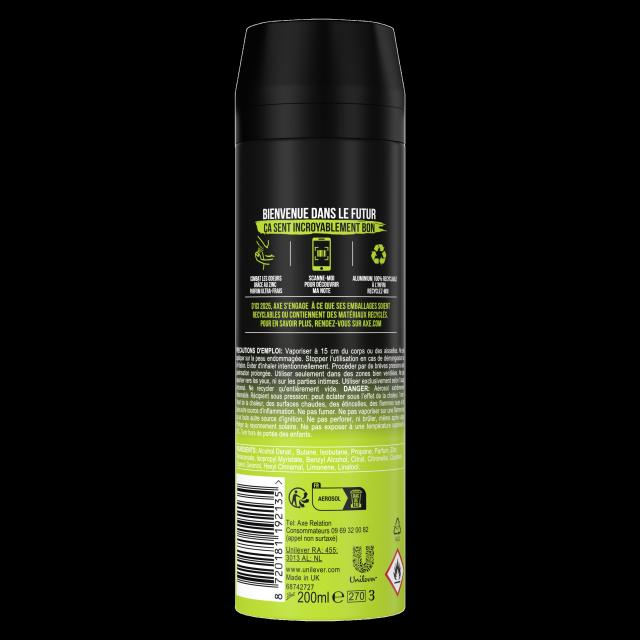GHS_Symbol_FLAME: (385, 548, 404, 597)
